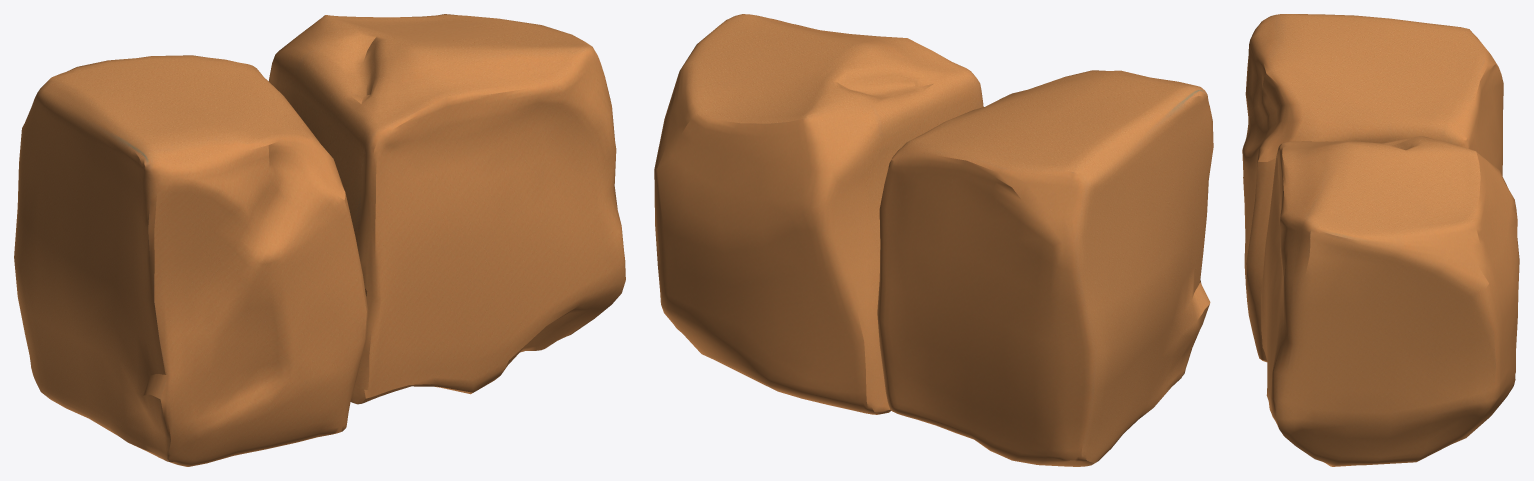
File: brick_half_sandstone.glb
The picture shows the model from 3 angles, left to right: view 1: azimuth 30°, elevation 25°; view 2: azimuth 150°, elevation 25°; view 3: azimuth 270°, elevation 25°; orthographic projection. The views are drawn at different scales.
Parts seen in each view (by area): view 1: Mesh_0; view 2: Mesh_0; view 3: Mesh_0.
Boxes of the visible parts, x1=… form: Mesh_0: x1=14, y1=14, x2=625, y2=466; Mesh_0: x1=654, y1=14, x2=1213, y2=466; Mesh_0: x1=1242, y1=14, x2=1519, y2=466.
Size of the model in its own units: 1.9 by 1.21 by 1.08.
Materials: 1 (1 with a texture image).
